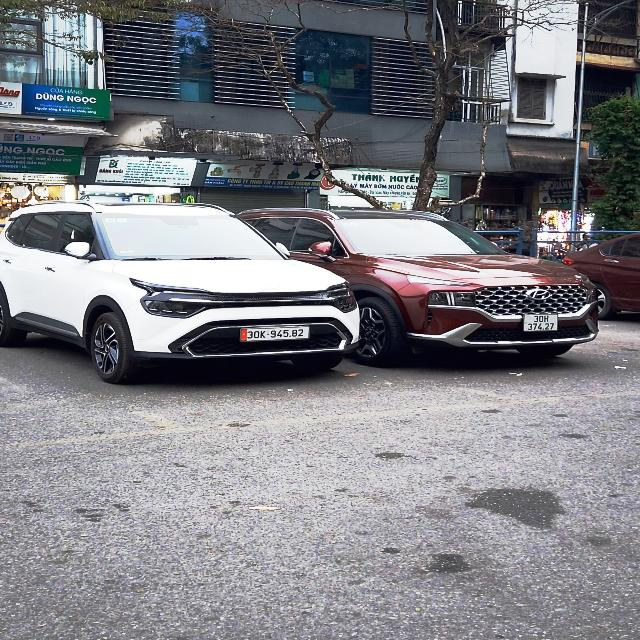license_plate: (241, 327, 312, 344), (525, 314, 560, 332)
